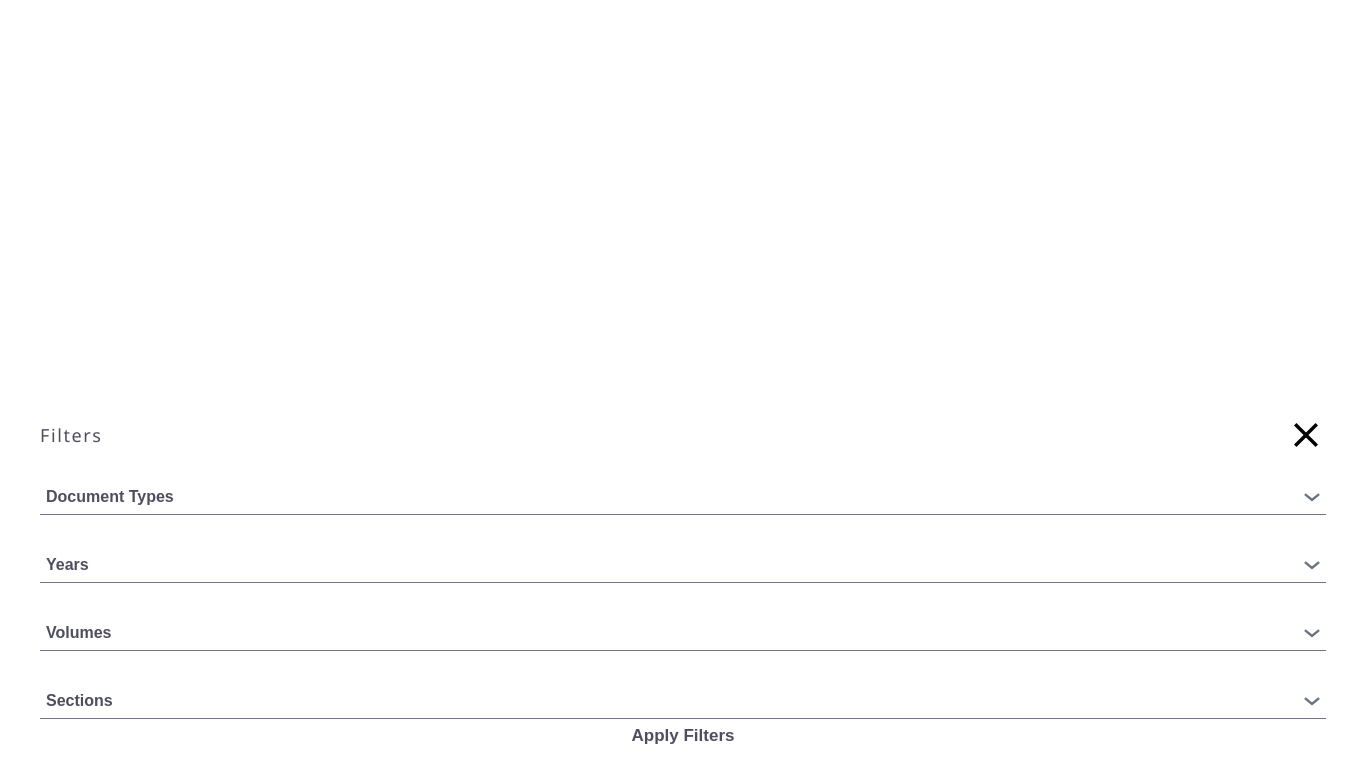
Test: SearchResultsMobileModal › Filter sections › opens Document Types section when its button is clicked
Click the button "Document Types" at (110, 496), box [40, 487, 1326, 515]
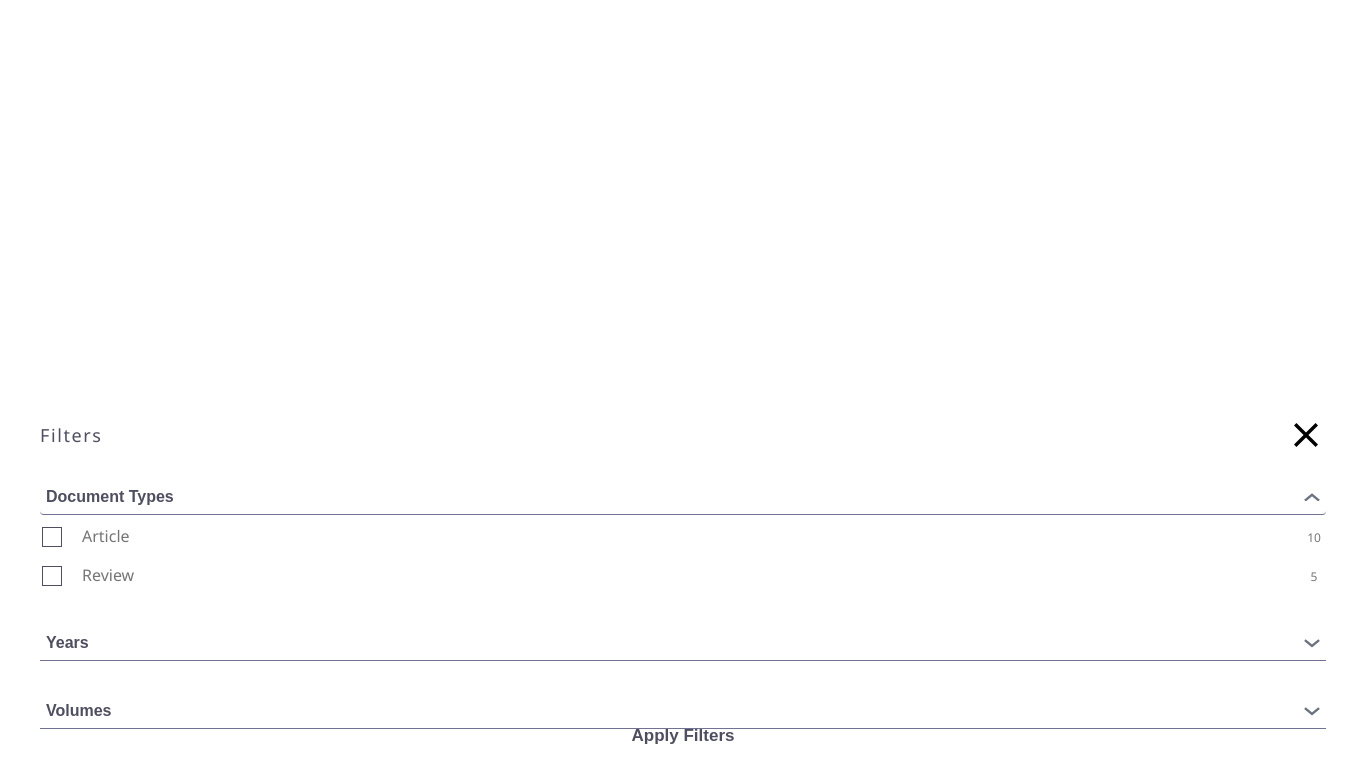
Now the button "Document Types" is expanded, box [40, 487, 1326, 515]
